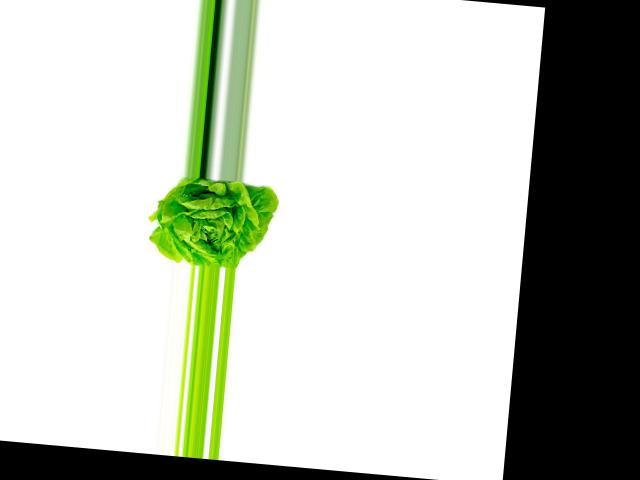lettuce: (150, 173, 282, 272)
